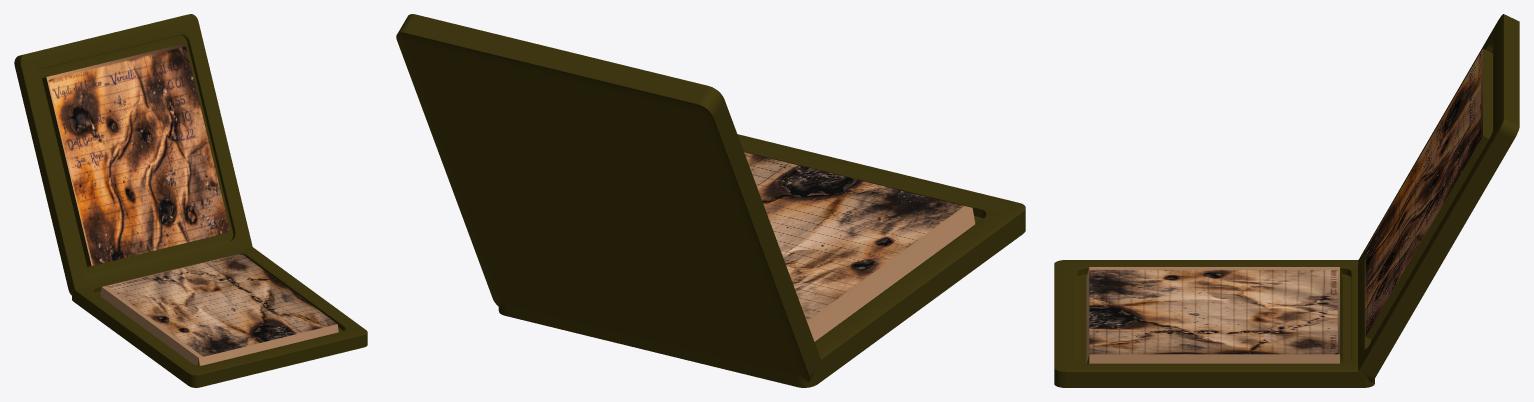
File: rubrica-present.glb
3 views of the same model, side by side, from view 1: azimuth 30°, elevation 25°; view 2: azimuth 150°, elevation 25°; view 3: azimuth 270°, elevation 25° (orthographic). The views are drawn at different scales.
Parts seen in each view (by area): view 1: rubrica-present; view 2: rubrica-present; view 3: rubrica-present.
Part boxes in pixels (x1,y1,x2,y2): rubrica-present: (14, 14, 367, 387); rubrica-present: (396, 14, 1025, 387); rubrica-present: (1054, 14, 1519, 387).
Size of the model in its own units: 1.27 by 1.41 by 2.24.
Materials: 3 (2 with a texture image).
